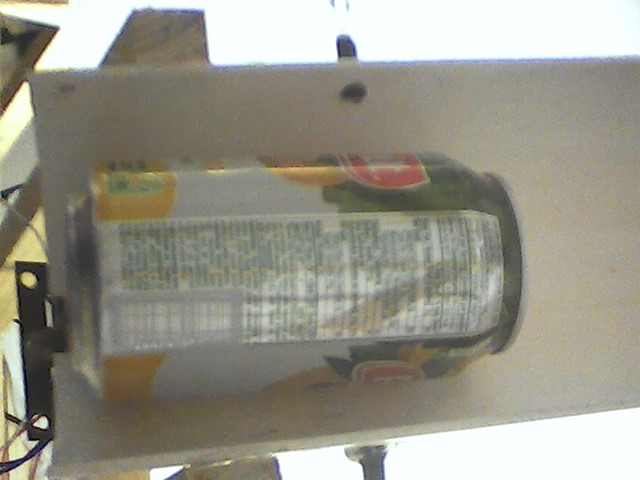lata: (59, 145, 530, 407)
